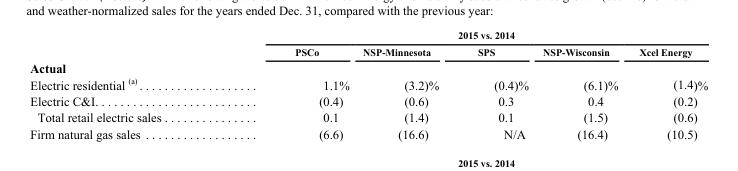table: (29, 29, 707, 140)
table column: (29, 29, 227, 140), (227, 29, 355, 140), (355, 29, 457, 140), (534, 29, 628, 140), (628, 29, 707, 140), (457, 29, 534, 140)
table column header: (29, 29, 707, 58)
table projected row header: (29, 58, 707, 75)
table row: (29, 58, 707, 75), (29, 75, 707, 92), (29, 108, 707, 125), (29, 92, 707, 108), (29, 43, 707, 58), (29, 125, 707, 140), (29, 29, 707, 43)
table spanning cell: (227, 29, 707, 43)
